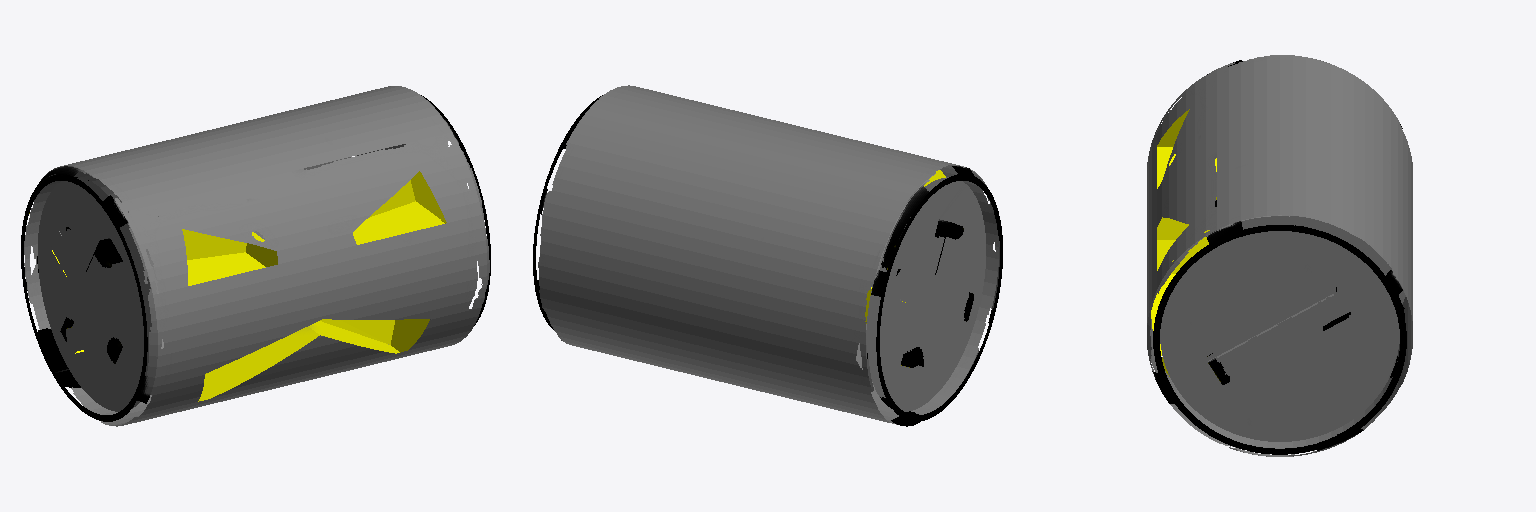
The picture shows the model from 3 angles: view 1: azimuth 30°, elevation 25°; view 2: azimuth 150°, elevation 25°; view 3: azimuth 270°, elevation 25°; orthographic projection.
Parts seen in each view (by area): view 1: Head; view 2: Head; view 3: Head.
Boxes of the visible parts, <box> form: Head: <box>21,86,490,426</box>; Head: <box>533,85,1002,426</box>; Head: <box>1147,55,1412,456</box>.
Size of the model in its own units: 3.29 by 2.2 by 2.2.
1 materials, 1 textured.